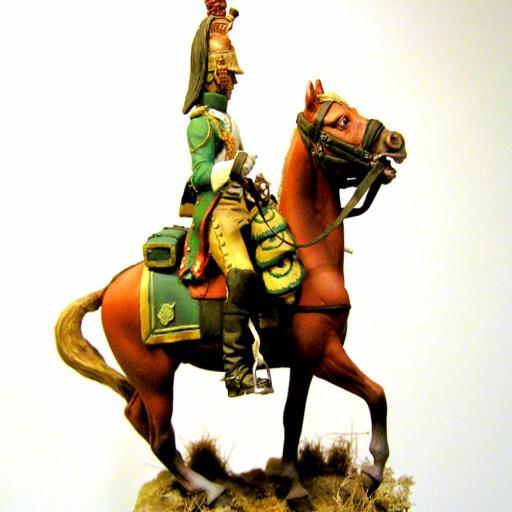Horse: (53, 77, 408, 511)
